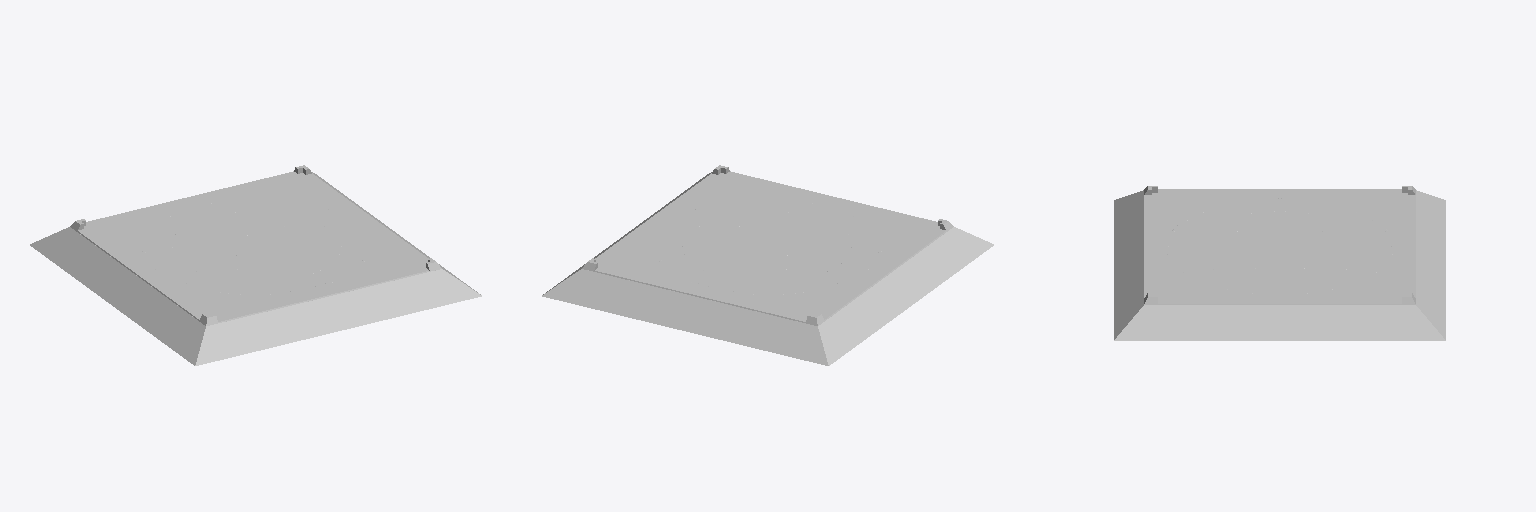
The model's file is phrase_platform.obj.
3 views of the same model, side by side, from view 1: azimuth 30°, elevation 25°; view 2: azimuth 150°, elevation 25°; view 3: azimuth 270°, elevation 25° (orthographic).
Visible parts, largest first — view 1: Cube.002, Cube.001, Torus.001; view 2: Cube.002, Cube.001, Torus.001; view 3: Cube.002, Cube.001, Torus.001.
Boxes of the visible parts, box(x1,y1,x2,y2) form: Cube.002: box(70, 165, 441, 325); Cube.001: box(30, 172, 481, 365); Torus.001: box(142, 199, 369, 294); Cube.002: box(582, 165, 953, 325); Cube.001: box(542, 172, 993, 365); Torus.001: box(654, 199, 881, 294); Cube.002: box(1144, 186, 1415, 304); Cube.001: box(1114, 190, 1445, 340); Torus.001: box(1166, 198, 1393, 294).
Size of the model in its own units: 2.65 by 0.2555 by 2.65.